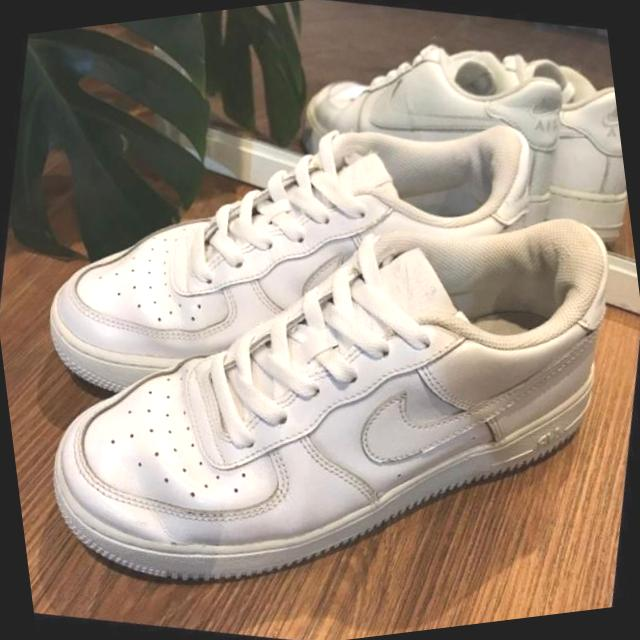nike_fake_airforce: (0, 97, 640, 640), (6, 23, 589, 494)
